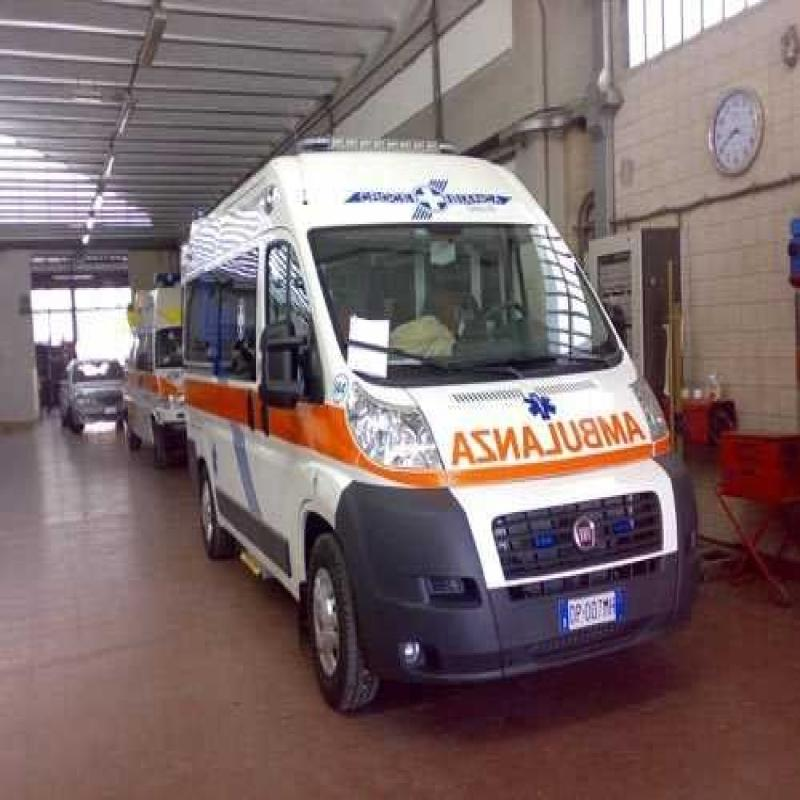AmbulanceSiren: (287, 105, 462, 178)
